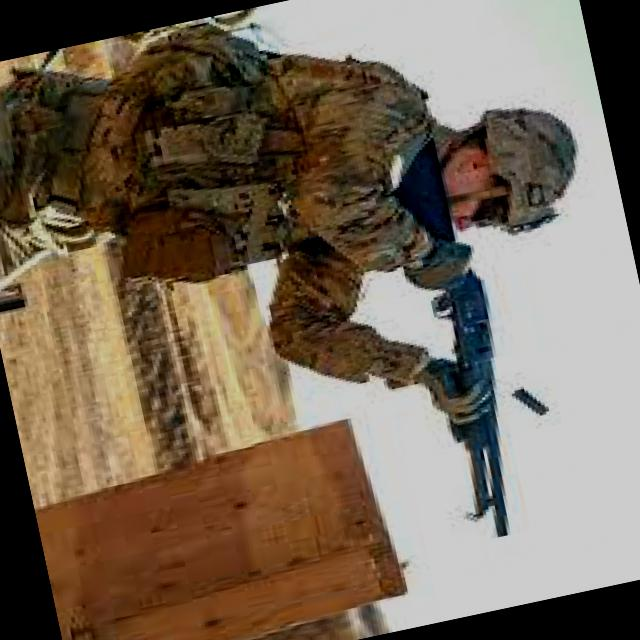long weapon: (348, 133, 534, 563)
